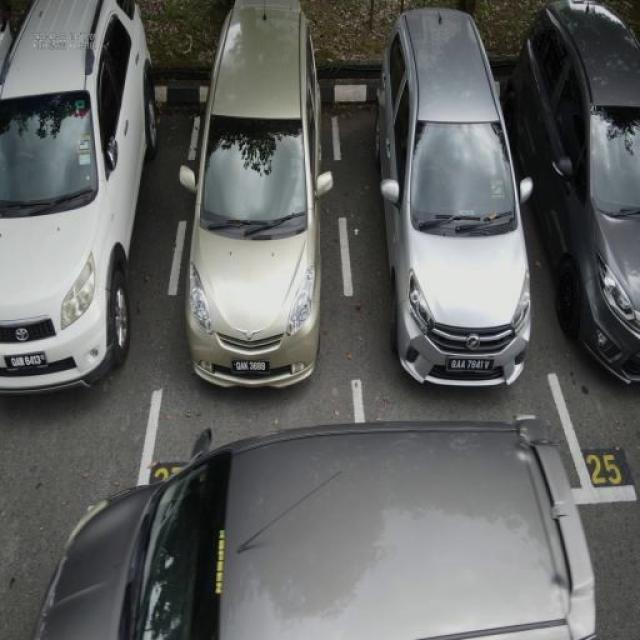Legalparking: (0, 0, 158, 391), (179, 0, 332, 386), (375, 9, 532, 384), (505, 0, 639, 381)
illegalparking: (35, 419, 594, 639)
